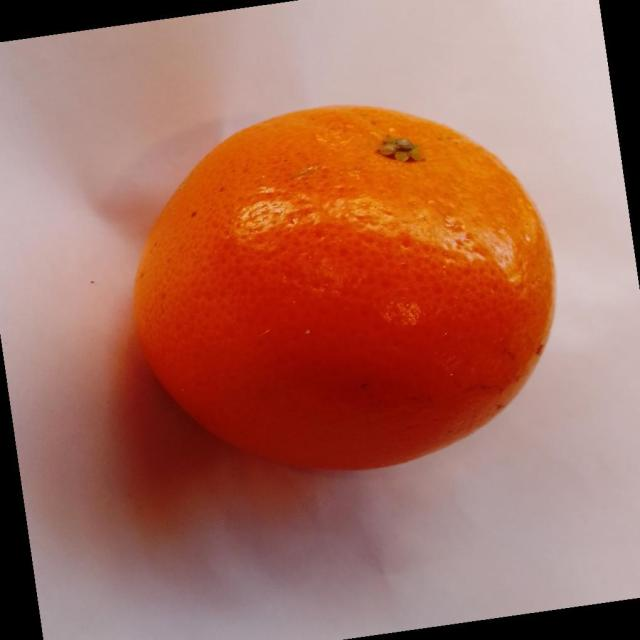fresh orange: (130, 103, 556, 472)
